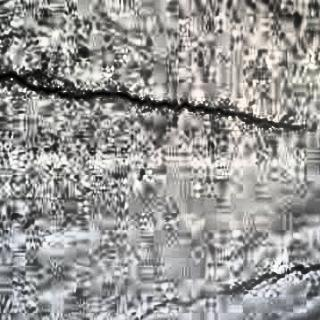crack: (228, 260, 315, 299)
